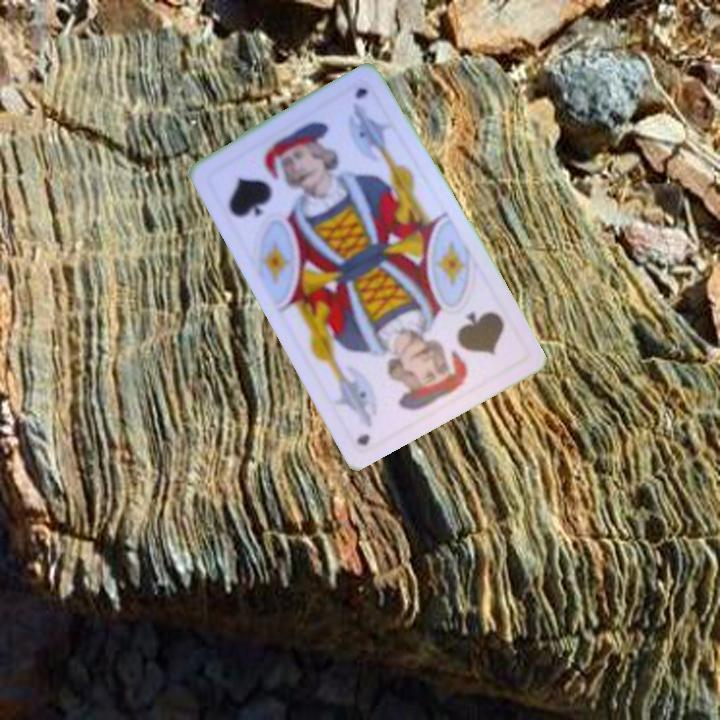s_j.png: (205, 122, 332, 244), (401, 284, 528, 405)
